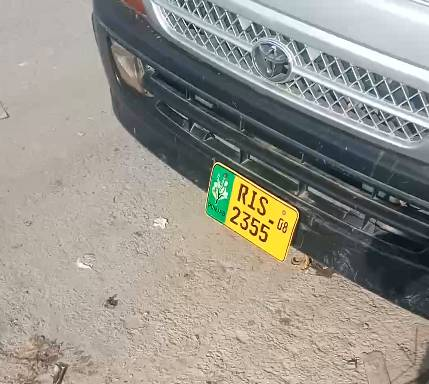number_plate: (204, 162, 294, 264)
